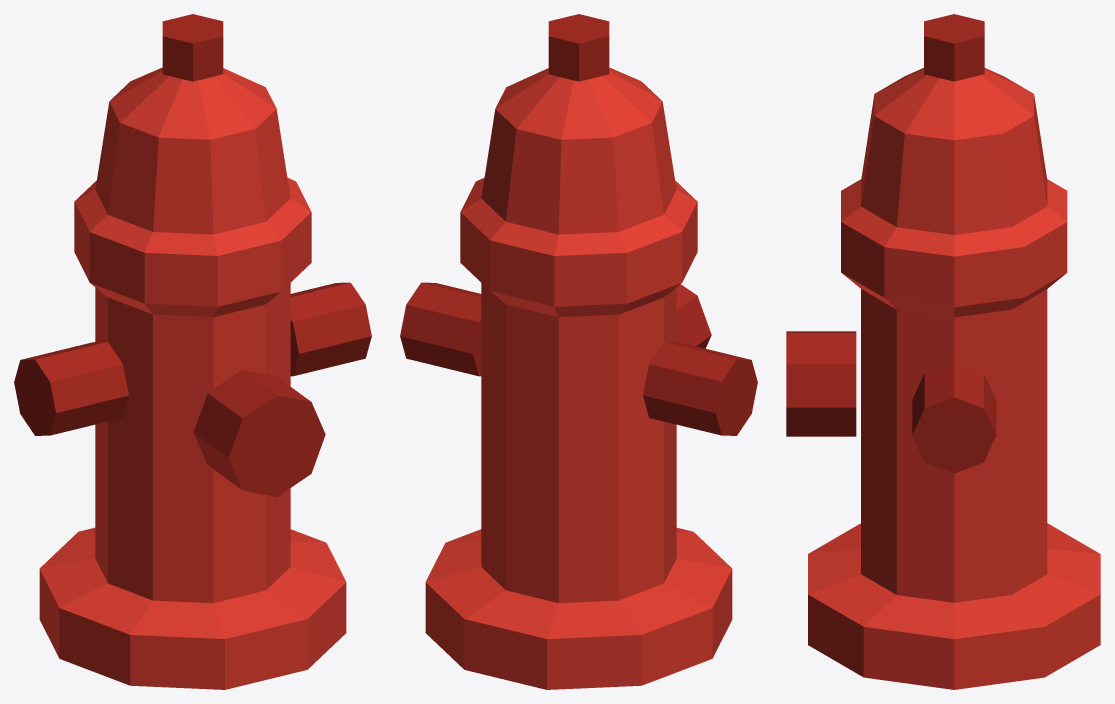
Rendered from hydrant.glb.
3 renders of one model, left to right at view 1: azimuth 30°, elevation 25°; view 2: azimuth 150°, elevation 25°; view 3: azimuth 270°, elevation 25°, orthographic.
Parts seen in each view (by area): view 1: hydrant; view 2: hydrant; view 3: hydrant.
Boxes of the visible parts, left/top/right/bottom form: hydrant: left=14, top=14, right=371, bottom=689; hydrant: left=400, top=14, right=757, bottom=689; hydrant: left=786, top=14, right=1100, bottom=689.
Bounding box in the file's own units: 0.52 × 0.94 × 0.4492.
